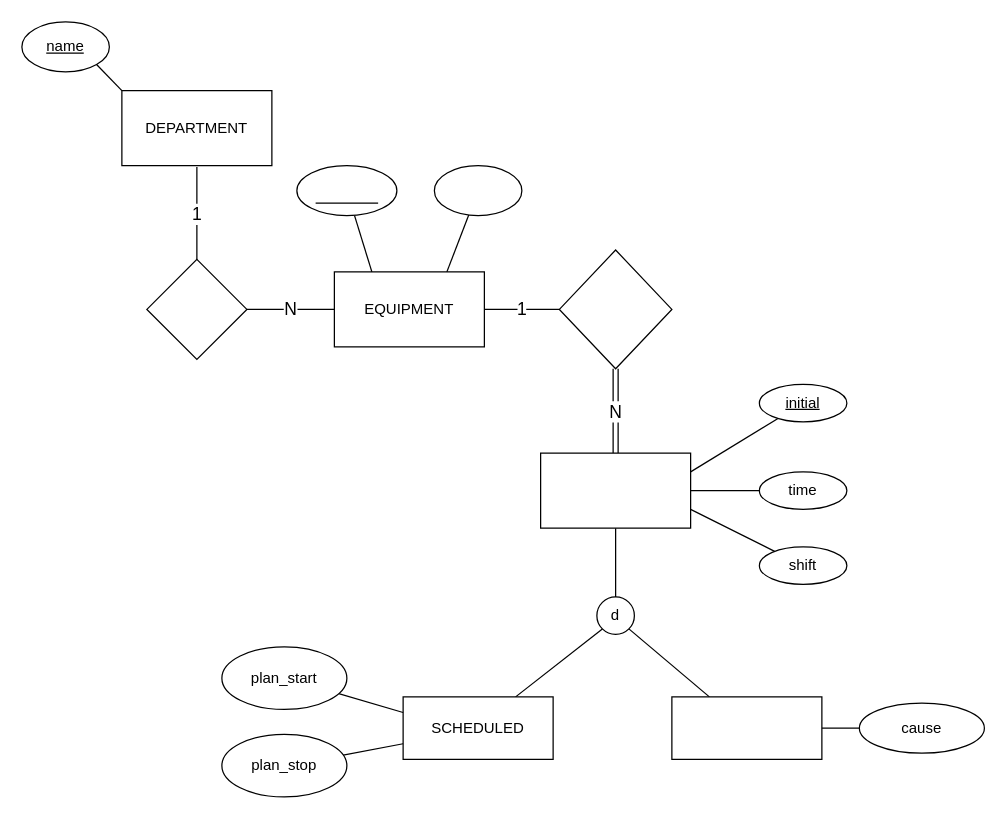
This 1006x819 diagram has some shape labels left out. Each missing label, with the box of its shape:
description: (433, 164, 522, 216)
DOWNTIME: (539, 452, 691, 528)
HAS: (146, 258, 247, 359)
MUST_HAVE: (558, 249, 672, 369)
part_num: (296, 164, 397, 216)
UNSCHEDULED: (671, 696, 822, 759)
